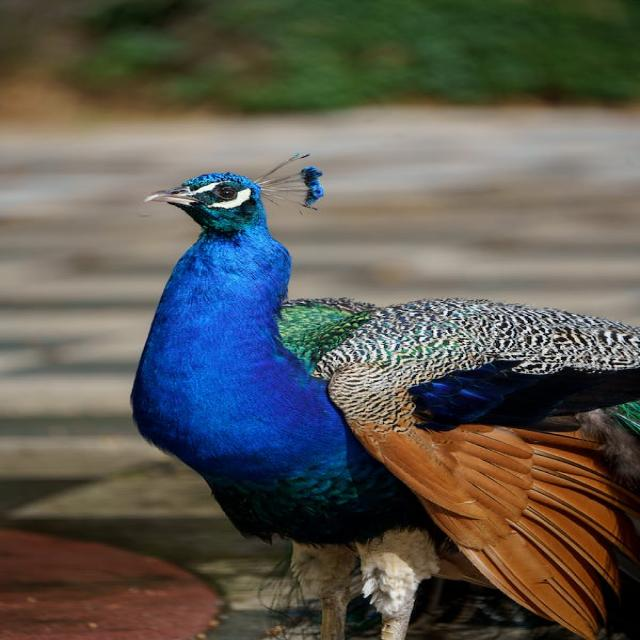peacock: (122, 146, 640, 639)
